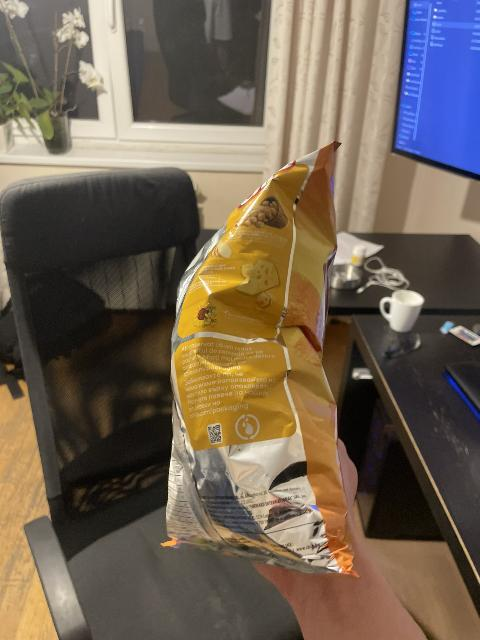Chio Cascaval 125g: (161, 142, 362, 574)
